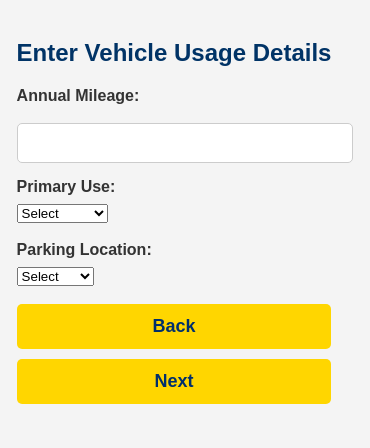
Scenario: VehicleUsage Component › shows error for invalid mileage input
Type "abc" into the field with test id "VehicleUsage-mileageInput".
click(185, 144); type("abc")  # box [17, 124, 353, 164]
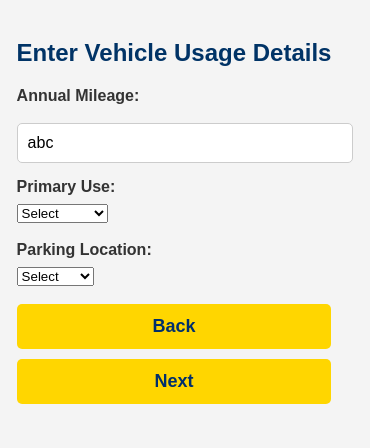
Click the button with test id "VehicleUsage-nextButton".
click(174, 382)  # box [17, 360, 331, 404]
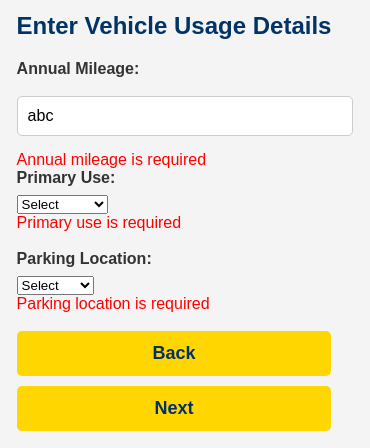
Now the text with test id "VehicleUsage-mileageError" reads "Annual mileage is required", box [17, 152, 206, 168]
